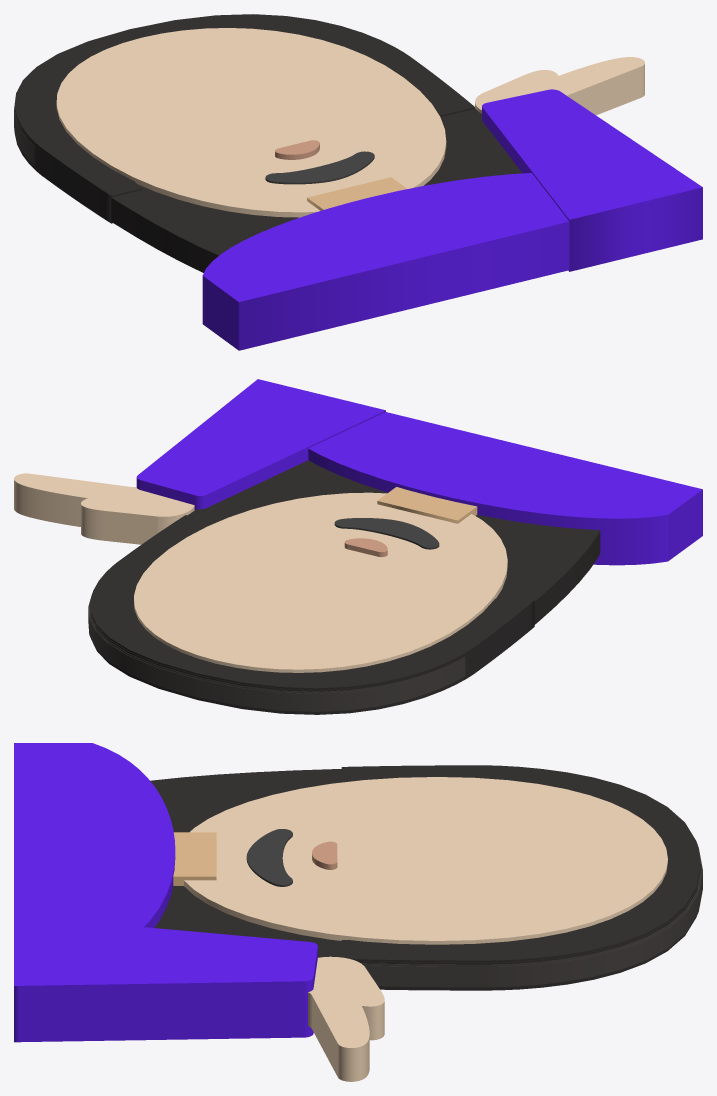
File: emoji_u1f481_1f3fb_200d_2640.glb
3 views of the same model, one above another, from view 1: azimuth 30°, elevation 25°; view 2: azimuth 150°, elevation 25°; view 3: azimuth 270°, elevation 25° (orthographic). The views are drawn at different scales.
Parts seen in each view (by area): view 1: emoji_u1f481_1f3fb_200d_2640; view 2: emoji_u1f481_1f3fb_200d_2640; view 3: emoji_u1f481_1f3fb_200d_2640.
Part boxes in pixels (bbox=[...]): emoji_u1f481_1f3fb_200d_2640: bbox=[14, 14, 702, 350]; emoji_u1f481_1f3fb_200d_2640: bbox=[14, 379, 702, 714]; emoji_u1f481_1f3fb_200d_2640: bbox=[14, 743, 702, 1081].
Bounding box in the file's own units: 0.0338 × 0.003 × 0.0333.
